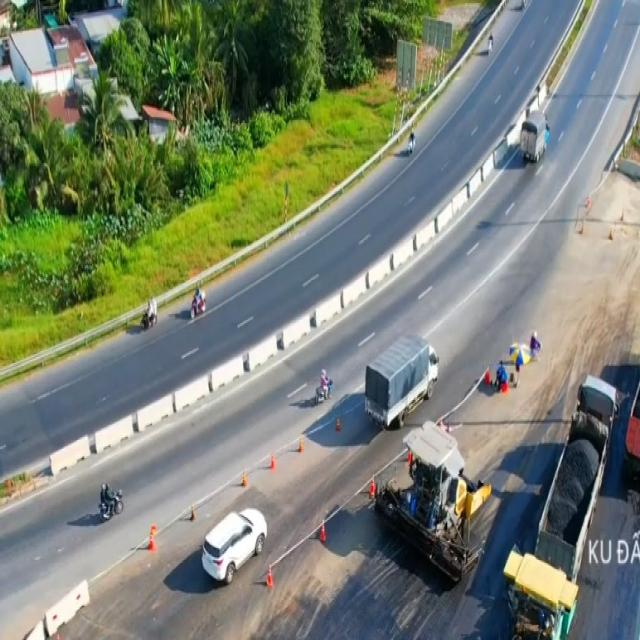car: (200, 511, 269, 594)
motorbike: (100, 476, 126, 527), (314, 369, 331, 406), (142, 296, 157, 334), (190, 286, 206, 321), (405, 131, 415, 154)
truck: (362, 329, 440, 430), (520, 107, 550, 167)
